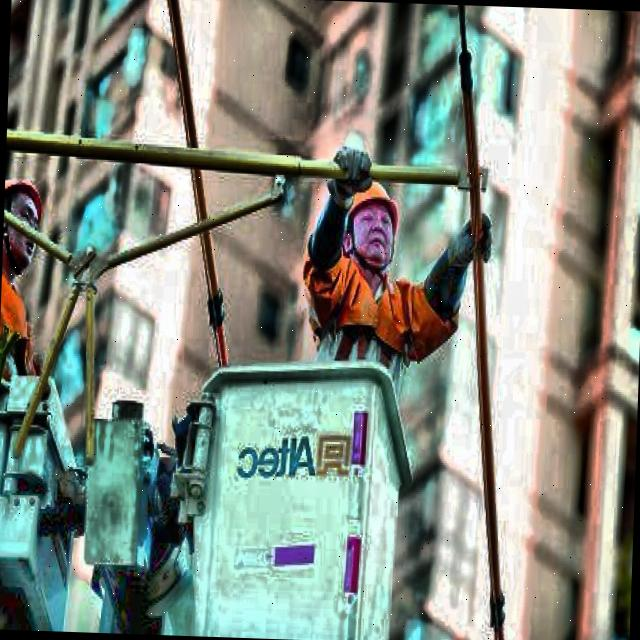helmet: (337, 170, 408, 277), (2, 166, 50, 284)
